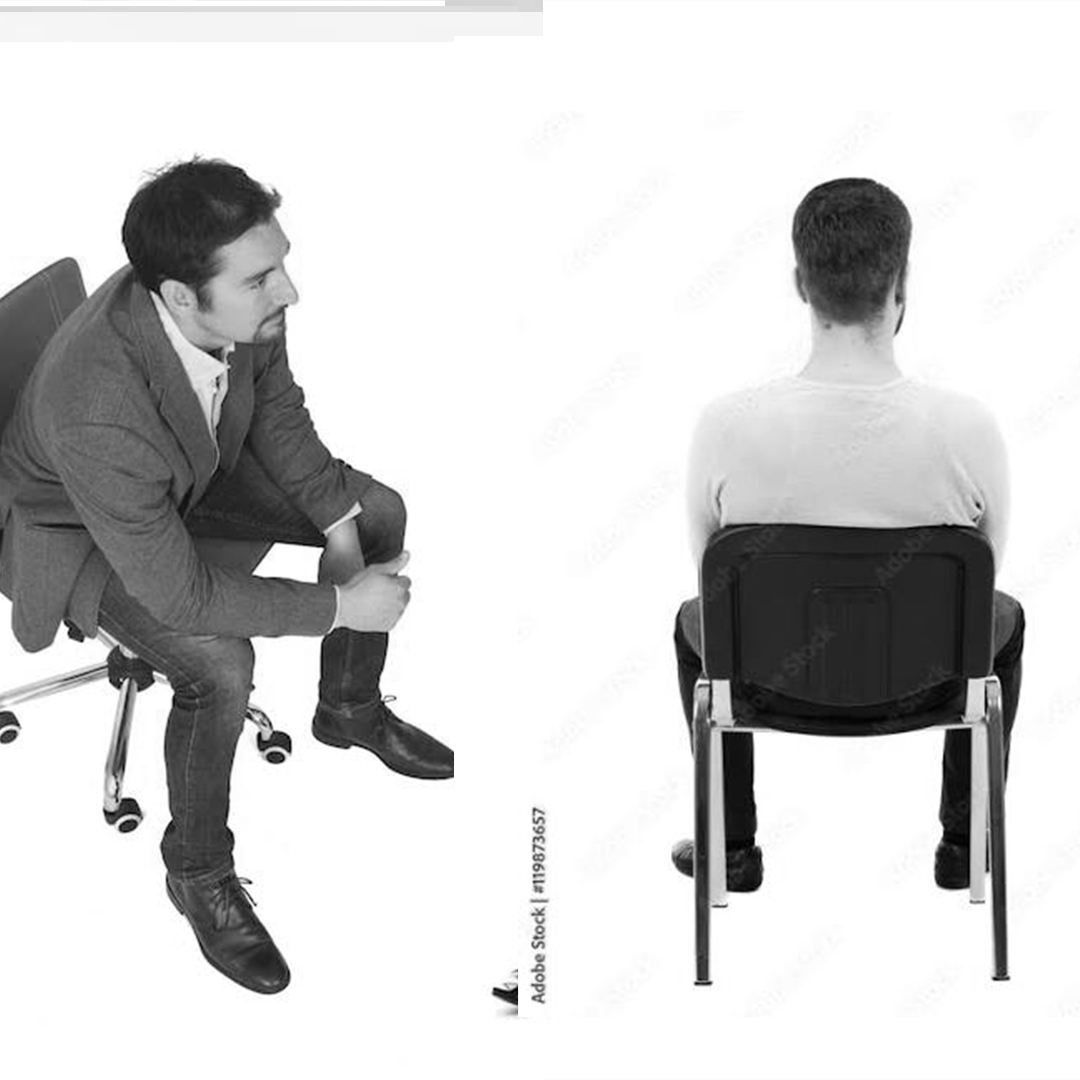distracted: (677, 120, 1040, 666), (109, 135, 372, 529)
